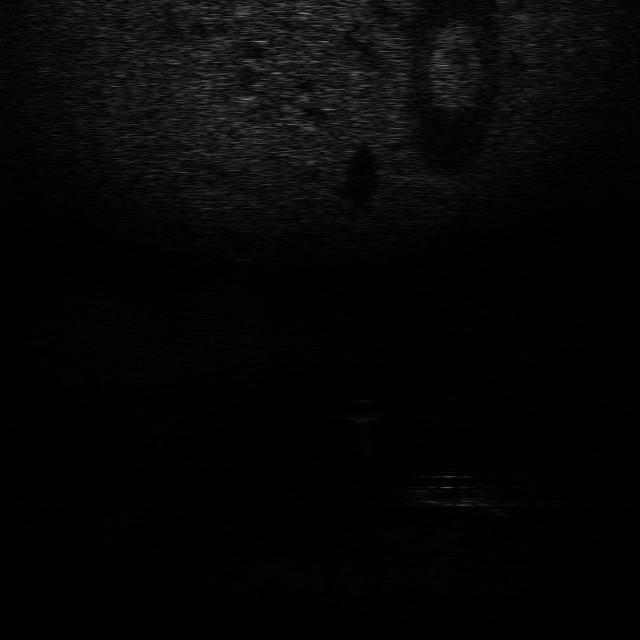ball: (334, 394, 390, 426)
tyre: (398, 469, 502, 513)
